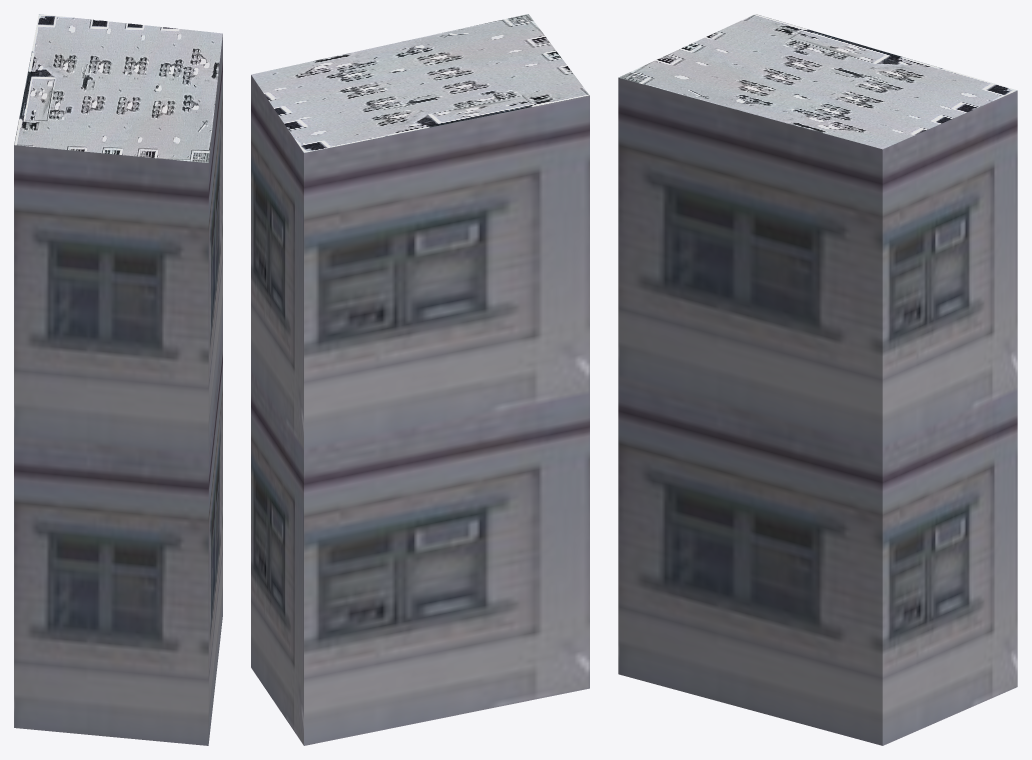
The model's file is ResTex__843.fbx.
3 views of the same model, side by side, from view 1: azimuth 30°, elevation 25°; view 2: azimuth 150°, elevation 25°; view 3: azimuth 270°, elevation 25° (orthographic). The views are drawn at different scales.
Parts seen in each view (by area): view 1: CityEngineMaterial_1_m, CityEngineMaterial_m; view 2: CityEngineMaterial_1_m, CityEngineMaterial_m; view 3: CityEngineMaterial_1_m, CityEngineMaterial_m.
Boxes of the visible parts, bbox=[...] form: CityEngineMaterial_1_m: bbox=[14, 34, 222, 745]; CityEngineMaterial_m: bbox=[14, 14, 222, 162]; CityEngineMaterial_1_m: bbox=[251, 75, 589, 745]; CityEngineMaterial_m: bbox=[251, 14, 589, 152]; CityEngineMaterial_1_m: bbox=[618, 77, 1017, 745]; CityEngineMaterial_m: bbox=[618, 14, 1017, 149].
Size of the model in its own units: 2.92 by 6 by 3.64.
Materials: 2 (2 with a texture image).
